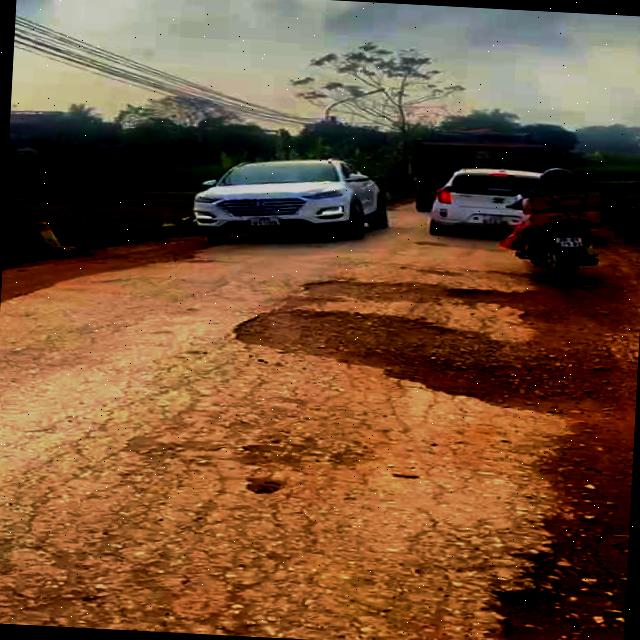pothole: (228, 301, 582, 424), (457, 501, 630, 640), (292, 272, 543, 321)
